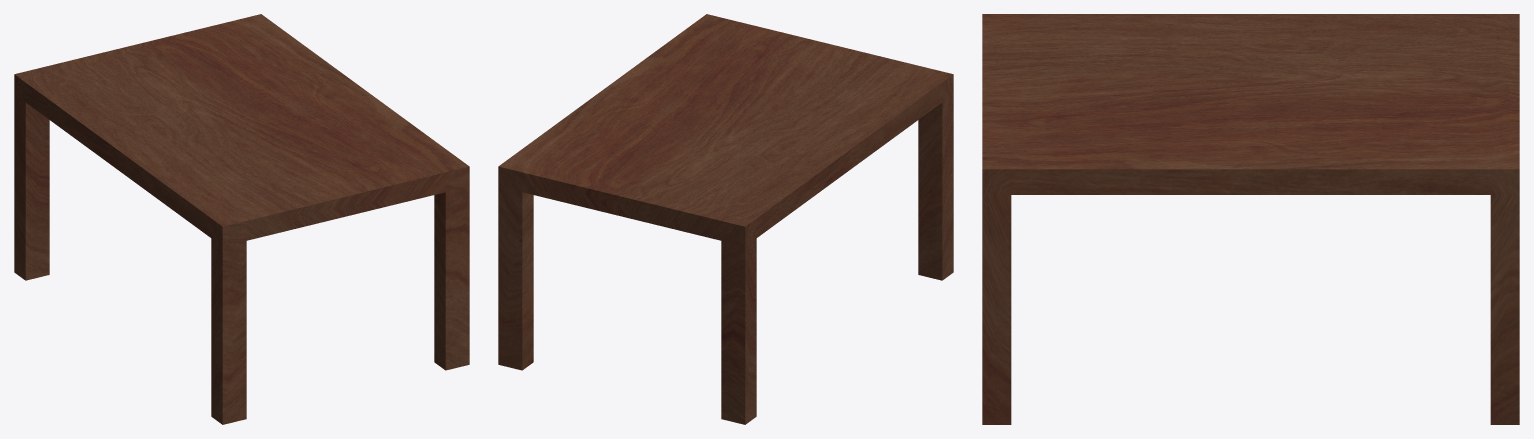
Rendered from Table.fbx.
3 views of the same model, side by side, from view 1: azimuth 30°, elevation 25°; view 2: azimuth 150°, elevation 25°; view 3: azimuth 270°, elevation 25° (orthographic). The views are drawn at different scales.
Parts seen in each view (by area): view 1: Cube; view 2: Cube; view 3: Cube.
Boxes of the visible parts, x1=… form: Cube: x1=14, y1=14, x2=469, y2=424; Cube: x1=498, y1=14, x2=953, y2=424; Cube: x1=982, y1=14, x2=1519, y2=424.
Size of the model in its own units: 380 by 260 by 199.
